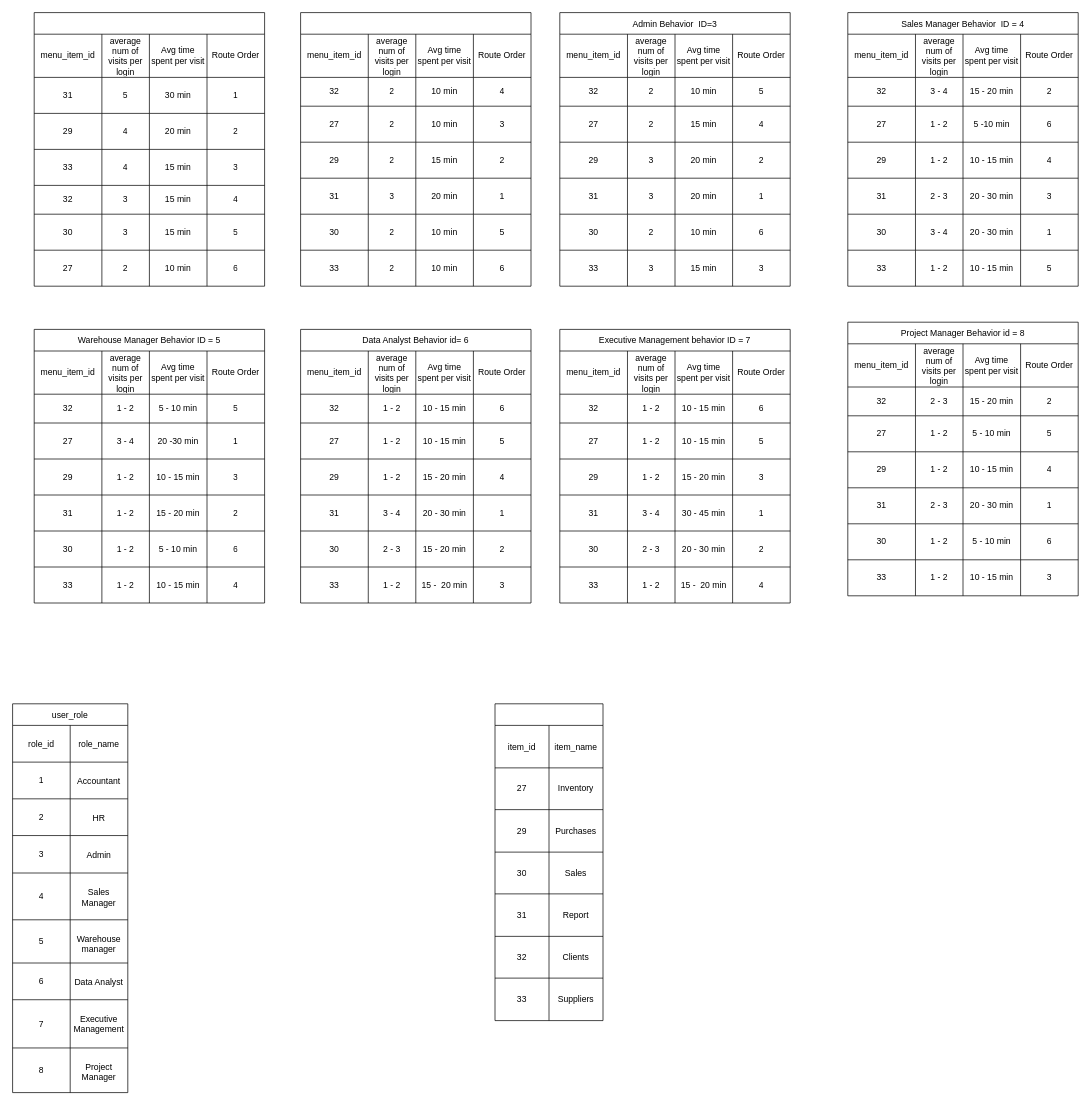
The diagram is 1091 pixels wide and 1105 high, and some of its shapes have lost their labels. Here are the shapes that lost their labels. From the top down, the box of each, then its label:
(33, 12, 265, 286): Accountant Behavior ID = 1
(300, 12, 531, 286): HR Behavior ID = 2
(494, 703, 603, 1021): menu_items
